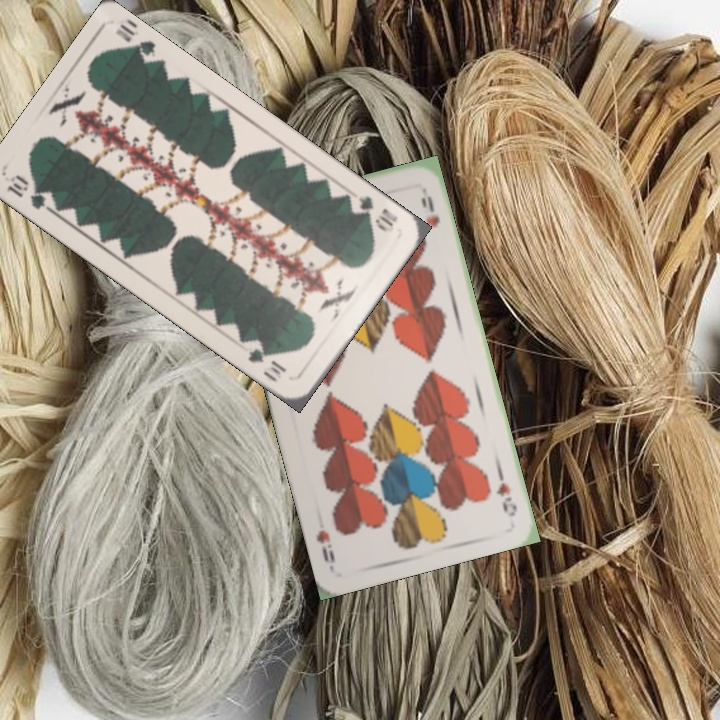G10: (2, 170, 59, 215), (352, 191, 401, 235)
H9: (492, 464, 520, 520)
